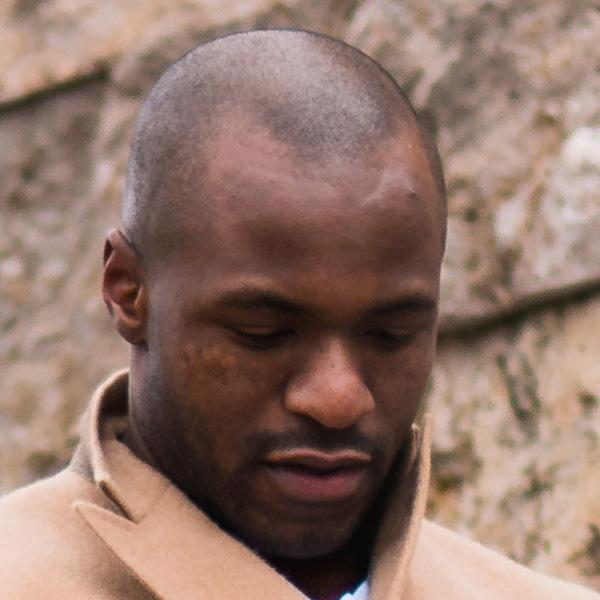Eyes: (208, 305, 298, 358), (354, 312, 427, 354)
